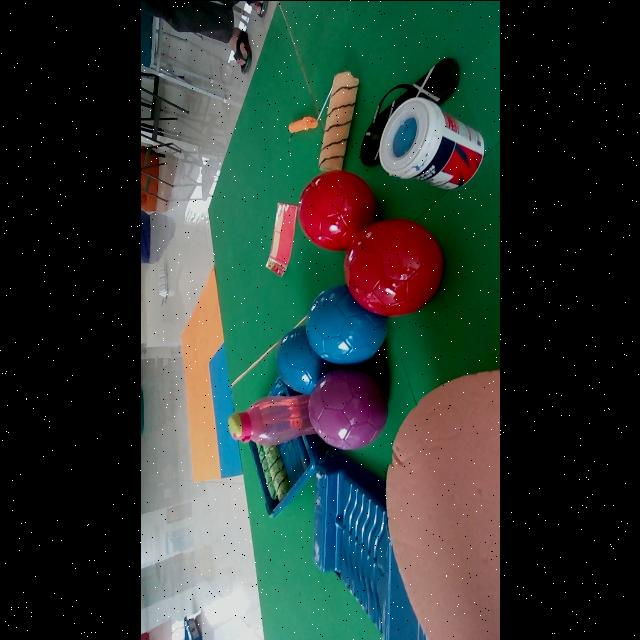B: (305, 284, 385, 363), (276, 325, 334, 394)
P: (309, 366, 387, 449)
R: (343, 218, 442, 316), (297, 169, 374, 250)
